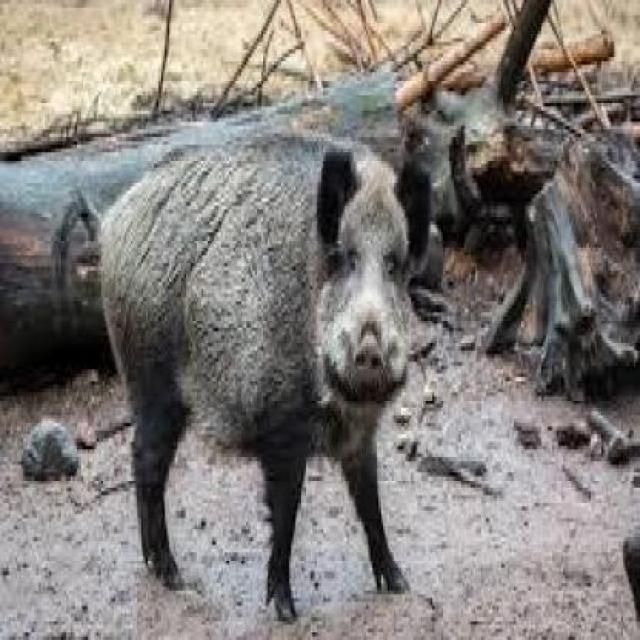wildboar: (59, 128, 432, 623)
